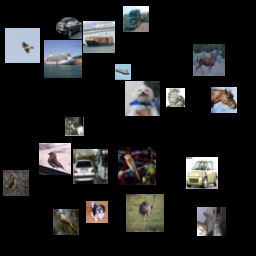automobile: (73, 149, 108, 184), (186, 157, 218, 189), (56, 13, 82, 39)
bird: (126, 194, 164, 232), (118, 147, 156, 185), (5, 28, 40, 63), (39, 143, 71, 175), (53, 209, 79, 235), (3, 170, 29, 196)
cat: (166, 88, 185, 107)
deer: (193, 44, 225, 76), (197, 207, 226, 236), (65, 117, 84, 136)
dog: (125, 81, 160, 116), (86, 201, 108, 223)
ship: (44, 40, 82, 78), (83, 21, 115, 53), (115, 64, 131, 80)
